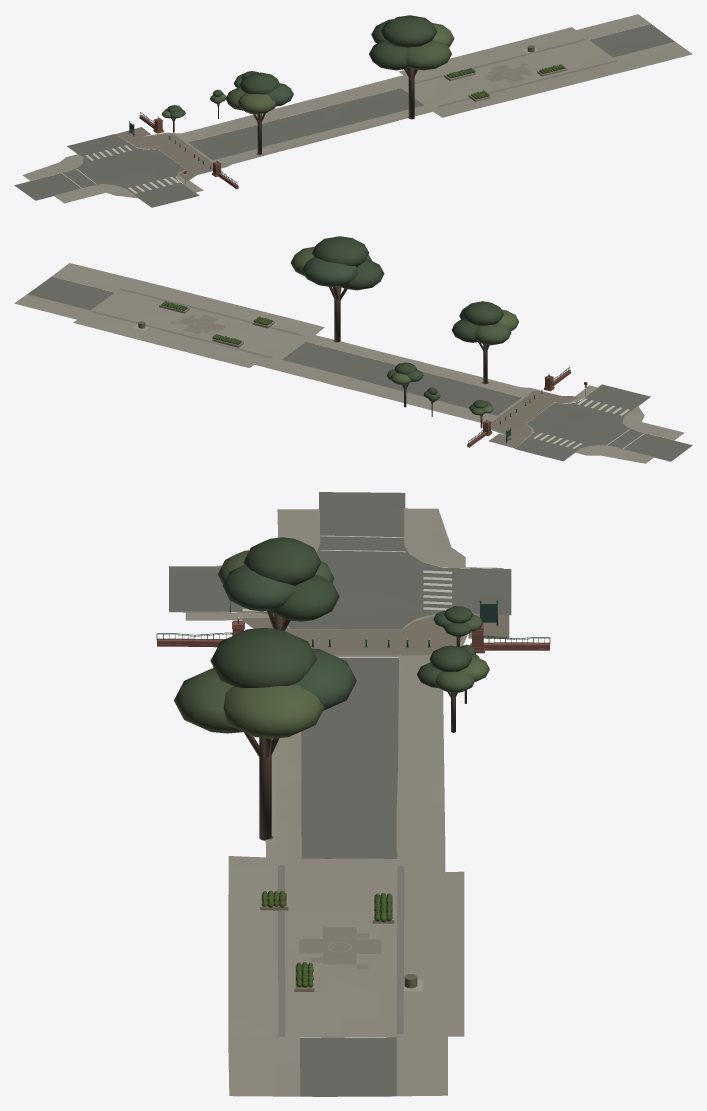
File: site.glb
3 views of the same model, one above another, from view 1: azimuth 30°, elevation 25°; view 2: azimuth 150°, elevation 25°; view 3: azimuth 270°, elevation 25° (orthographic). The views are drawn at different scales.
Parts seen in each view (by area): view 1: east-thirteenth-west-paving, east-thirteenth-west-planting, east-thirteenth-west-markings, east-thirteenth-west-gateway; view 2: east-thirteenth-west-paving, east-thirteenth-west-planting, east-thirteenth-west-markings, east-thirteenth-west-gateway; view 3: east-thirteenth-west-paving, east-thirteenth-west-planting, east-thirteenth-west-markings, east-thirteenth-west-gateway.
Boxes of the visible parts, bbox=[...] form: east-thirteenth-west-paving: bbox=[14, 14, 692, 207]; east-thirteenth-west-planting: bbox=[161, 15, 564, 154]; east-thirteenth-west-markings: bbox=[31, 39, 617, 198]; east-thirteenth-west-gateway: bbox=[129, 45, 567, 189]; east-thirteenth-west-paving: bbox=[14, 263, 692, 463]; east-thirteenth-west-planting: bbox=[161, 236, 518, 427]; east-thirteenth-west-markings: bbox=[92, 288, 674, 459]; east-thirteenth-west-gateway: bbox=[133, 301, 587, 447]; east-thirteenth-west-paving: bbox=[169, 492, 511, 1096]; east-thirteenth-west-planting: bbox=[174, 537, 489, 987]; east-thirteenth-west-markings: bbox=[169, 508, 503, 1036]; east-thirteenth-west-gateway: bbox=[156, 600, 550, 991].
Size of the model in its own units: 142 by 22.13 by 38.09.
